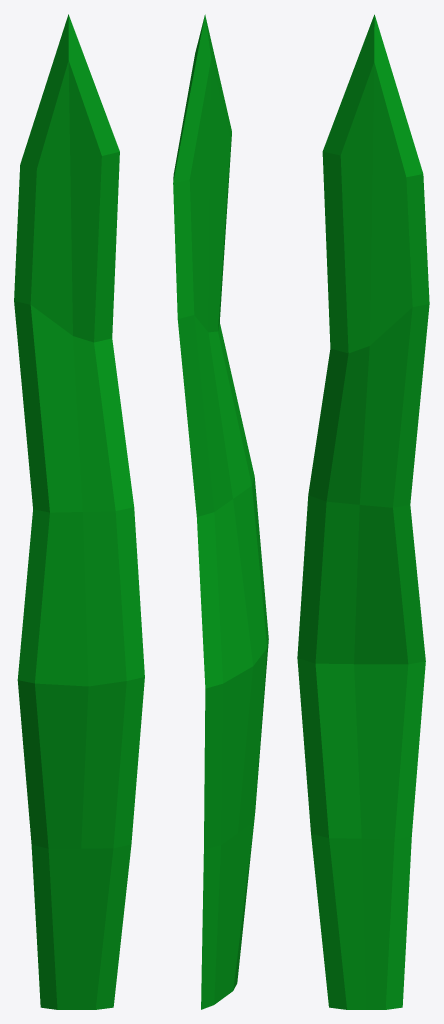
File: grass1.fbx
The picture shows the model from 3 angles, left to right: view 1: azimuth 90°, elevation 25°; view 2: azimuth 150°, elevation 25°; view 3: azimuth 270°, elevation 25°; orthographic projection.
Parts seen in each view (by area): view 1: GrassLeaf.001; view 2: GrassLeaf.001; view 3: GrassLeaf.001.
Boxes of the visible parts, x1,y1,x2,y2 form: GrassLeaf.001: (14, 14, 144, 1009); GrassLeaf.001: (173, 14, 268, 1009); GrassLeaf.001: (297, 14, 429, 1009).
Size of what is drawn, in the model's own units: 0.1366 by 2.37 by 0.2843.
